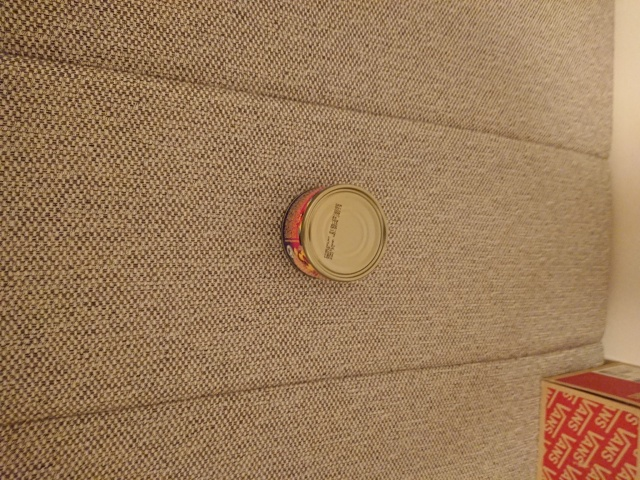Giana Tuna Salad Mexico 185g: (279, 182, 389, 286)
